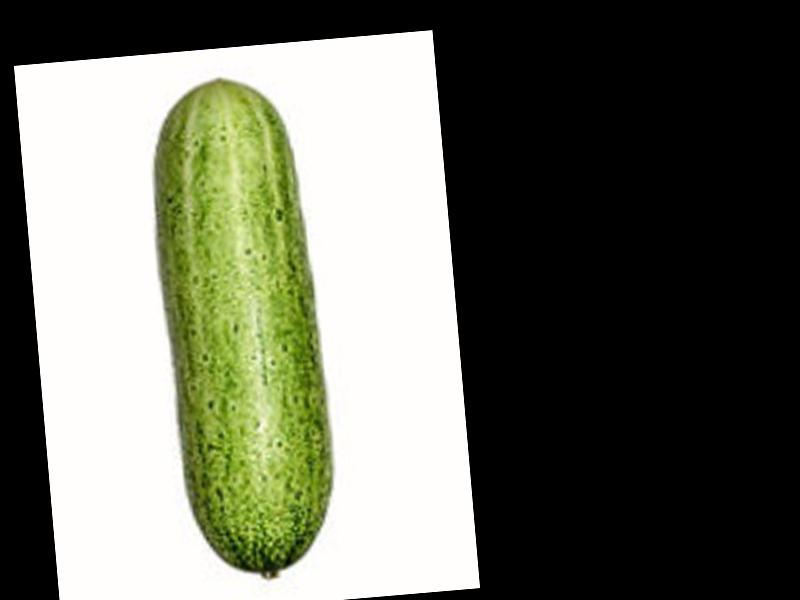Cucumber: (147, 71, 341, 586)
